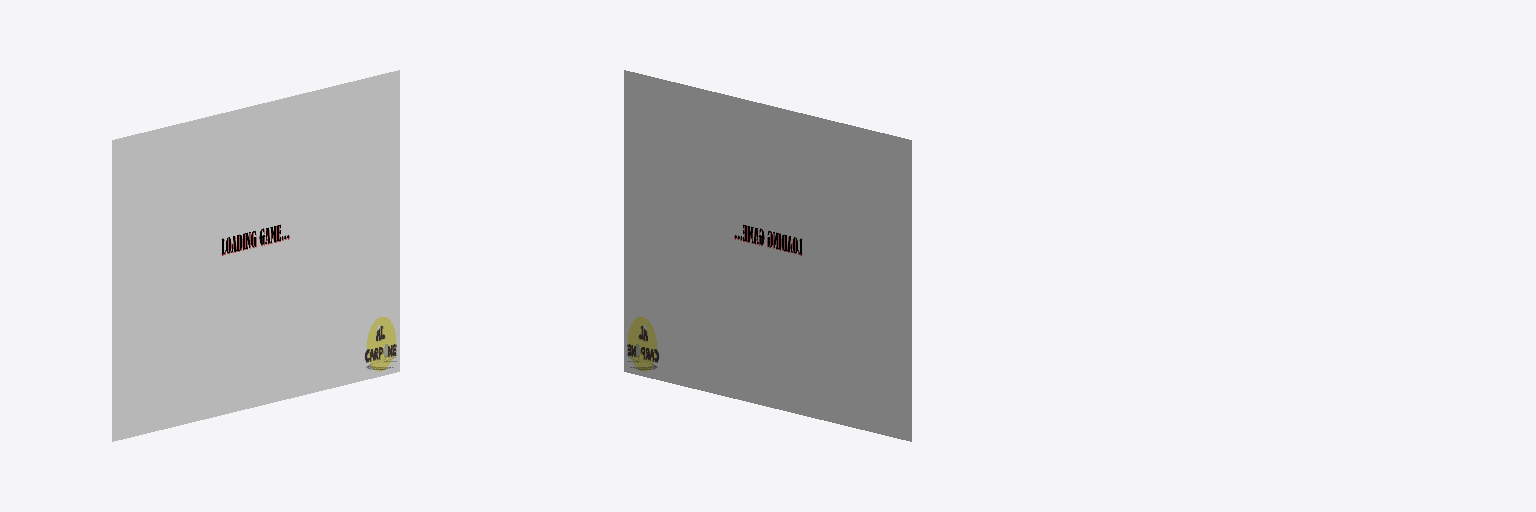
The picture shows the model from 3 angles: view 1: azimuth 30°, elevation 25°; view 2: azimuth 150°, elevation 25°; view 3: azimuth 270°, elevation 25°; orthographic projection.
Parts seen in each view (by area): view 1: Plane; view 2: Plane; view 3: none.
Boxes of the visible parts, x1=… form: Plane: x1=112, y1=70, x2=399, y2=441; Plane: x1=624, y1=70, x2=911, y2=441.
Bounding box in the file's own units: 2 × 2 × 0.
Materials: 1 (1 with a texture image).